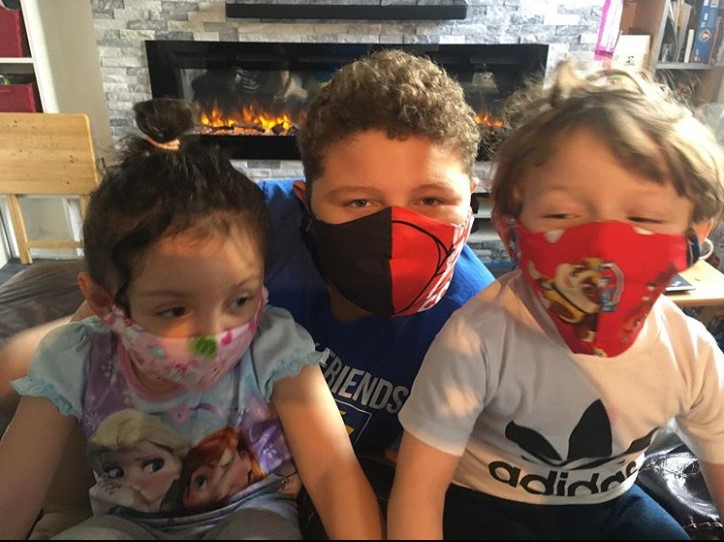face_with_mask: (495, 99, 712, 364), (290, 92, 481, 322), (74, 203, 272, 394)
